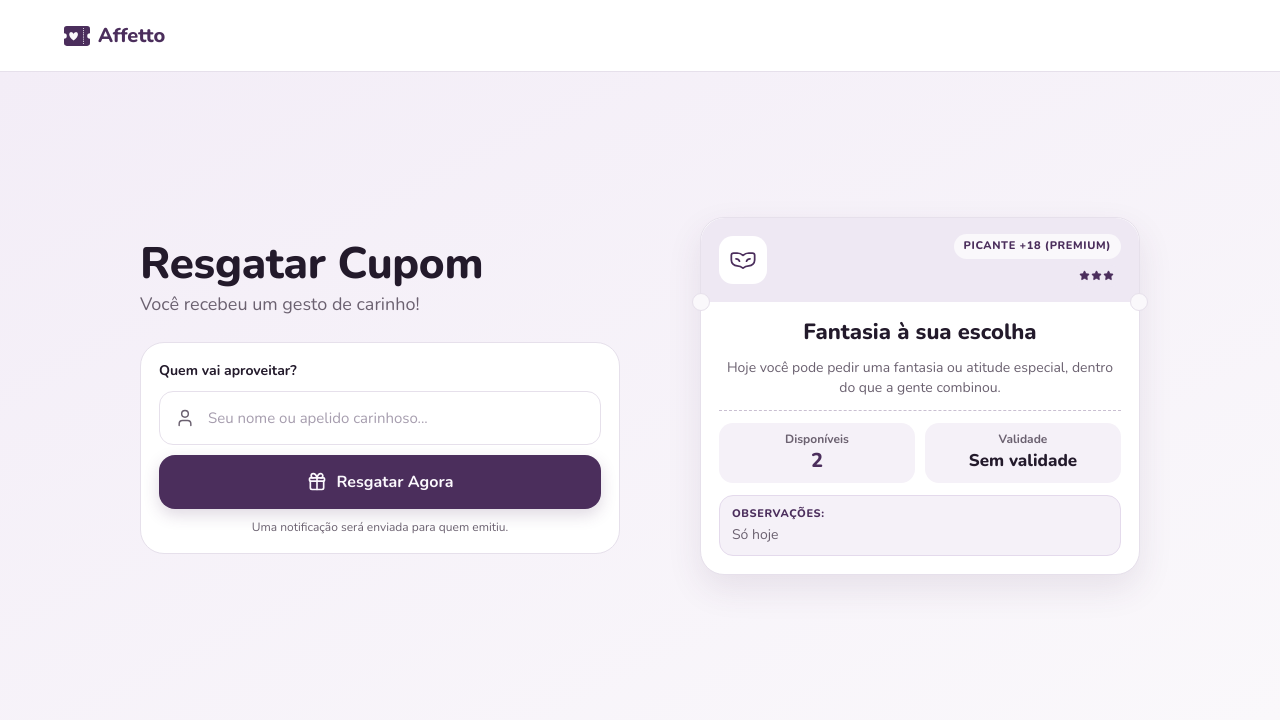
Test case: RedeemPage › logs a premium redemption and opens the iOS campaign listing
Later steps or results of the test are not shown.
Type "Ana" into the field labelled "Quem vai aproveitar?". click: point(380, 418)
box: [159,391,601,445]
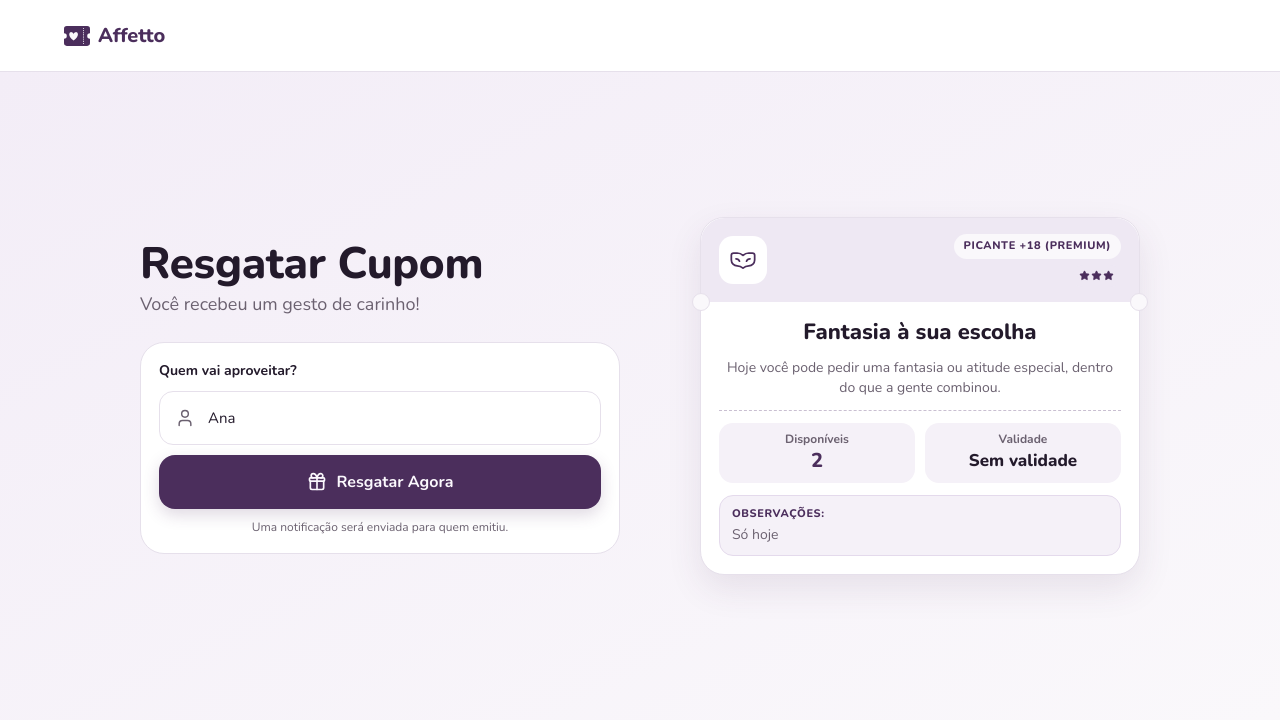
Click the button "Resgatar Agora". click: point(380, 482)
box: [159,455,601,509]
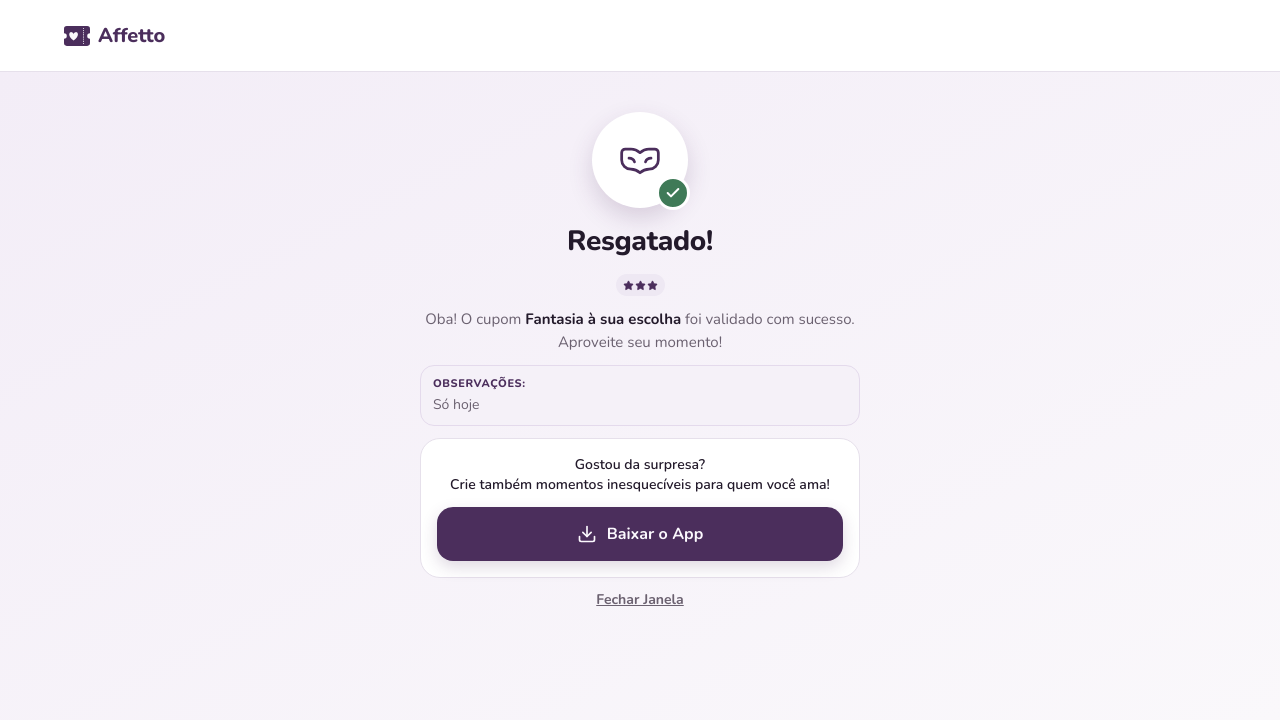
Expected: the text "Fantasia à sua escolha" is shown, [525,309,681,329]
Now the heading "Resgatado!" is shown, box [567,220,713,262]
Now the text "Gostou da surpresa?" is shown, box [575,454,705,474]
